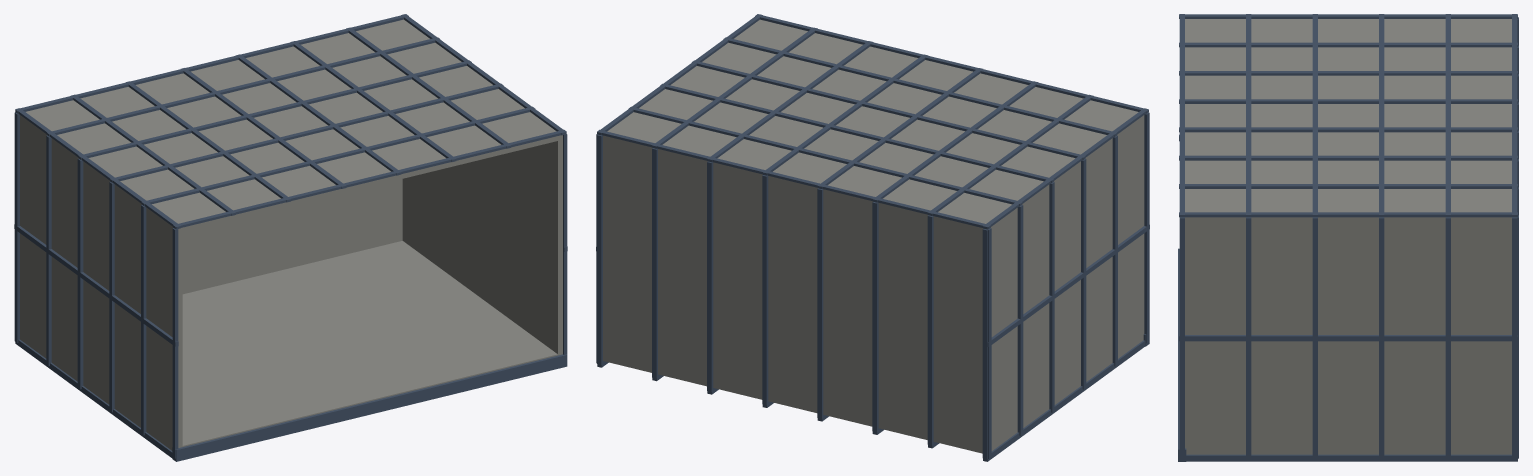
File: ms1_shell.obj
3 renders of one model, left to right at view 1: azimuth 30°, elevation 25°; view 2: azimuth 150°, elevation 25°; view 3: azimuth 270°, elevation 25°, orthographic. The views are drawn at different scales.
Visible parts, largest first — view 1: ms1_shell; view 2: ms1_shell; view 3: ms1_shell.
Part boxes in pixels (left/top/right/bottom): ms1_shell: left=14, top=14, right=567, bottom=461; ms1_shell: left=596, top=14, right=1149, bottom=461; ms1_shell: left=1178, top=14, right=1518, bottom=461.
Size of the model in its own units: 7 by 4 by 5.
